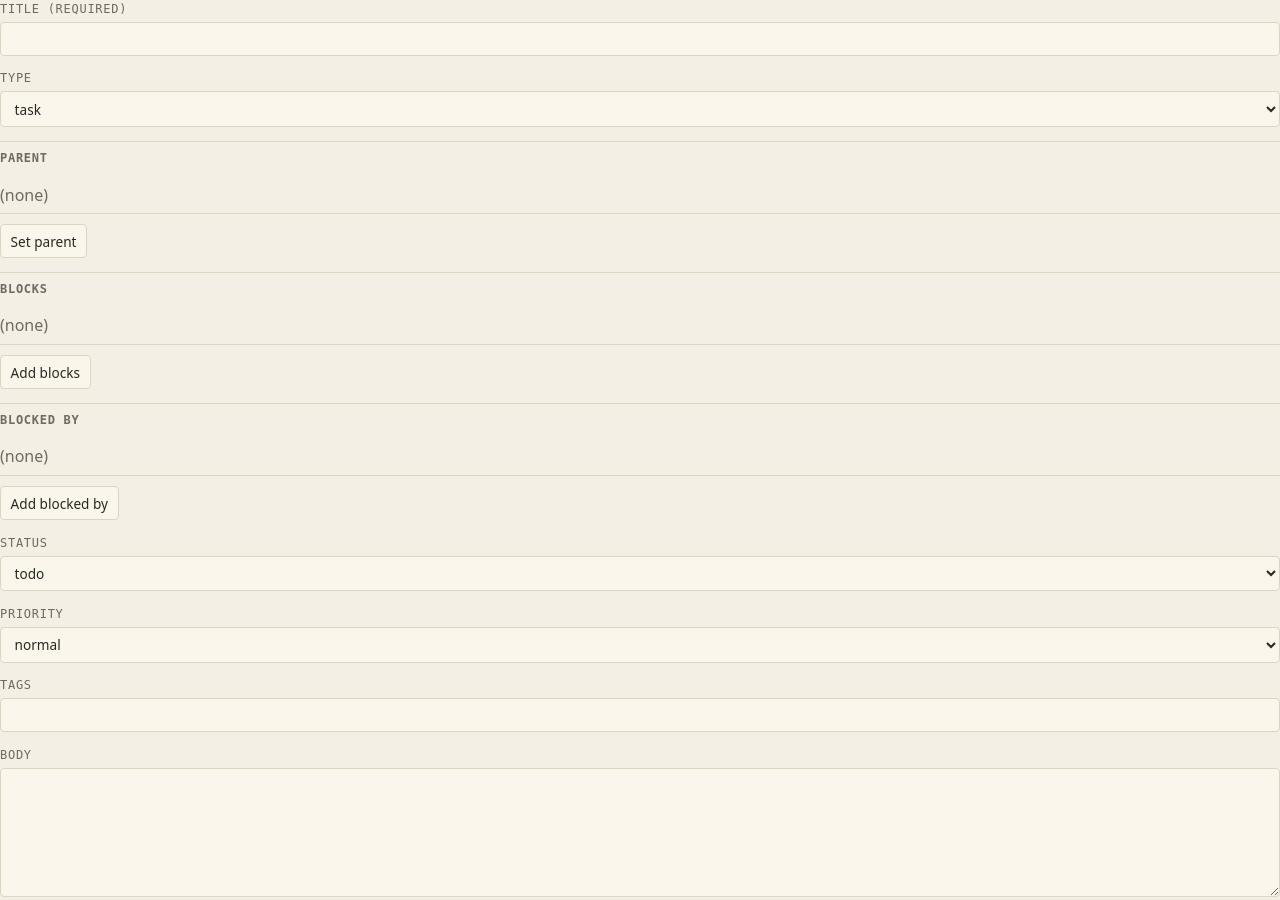
Test: CreateBeanForm › limits parent options to milestones when type is epic
This screenshot has width=1280, height=900.
Select "epic" in the dropdown labelled "Type": (640, 109) [0, 91, 1279, 127]
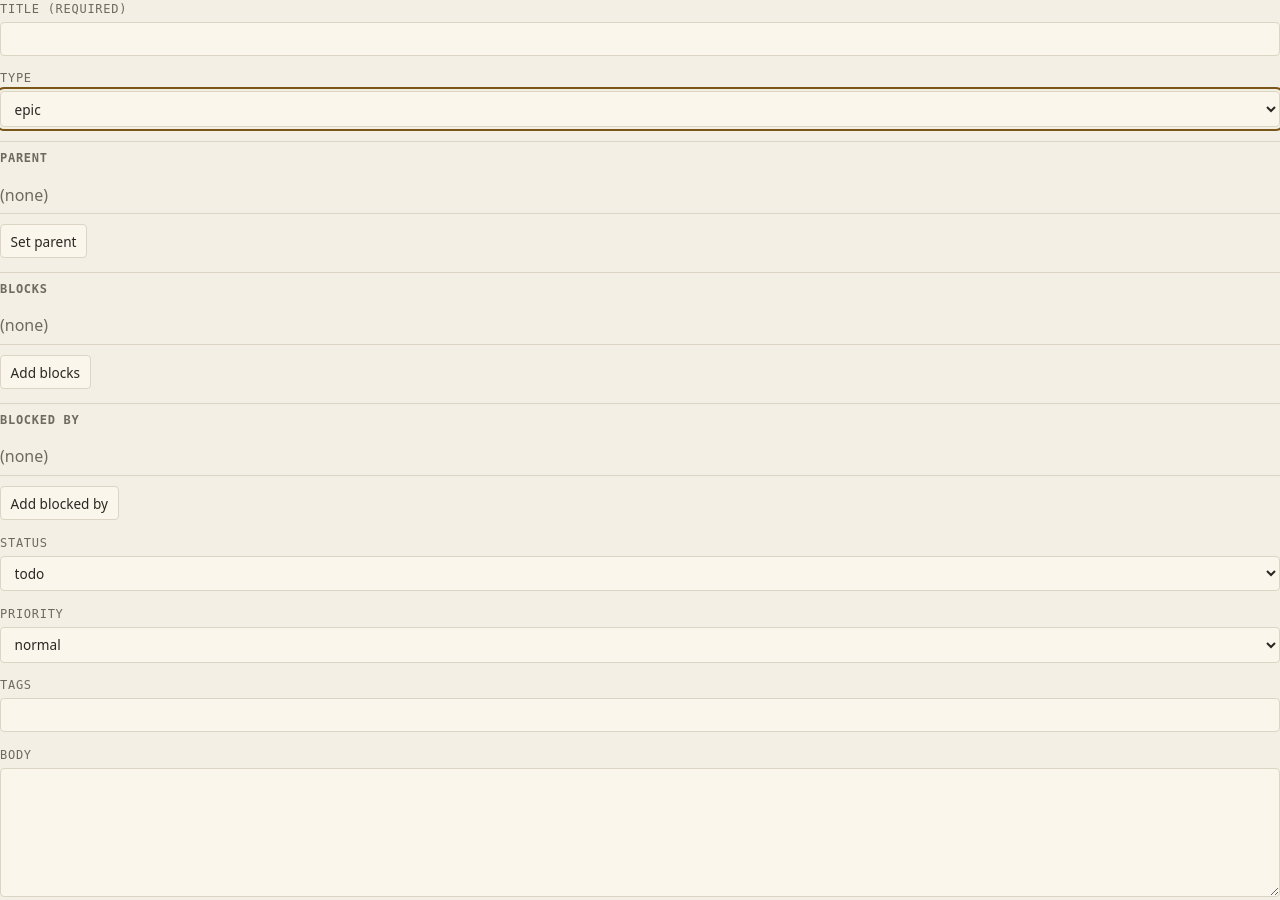
Click the button "Set parent": (44, 241) [0, 224, 87, 258]
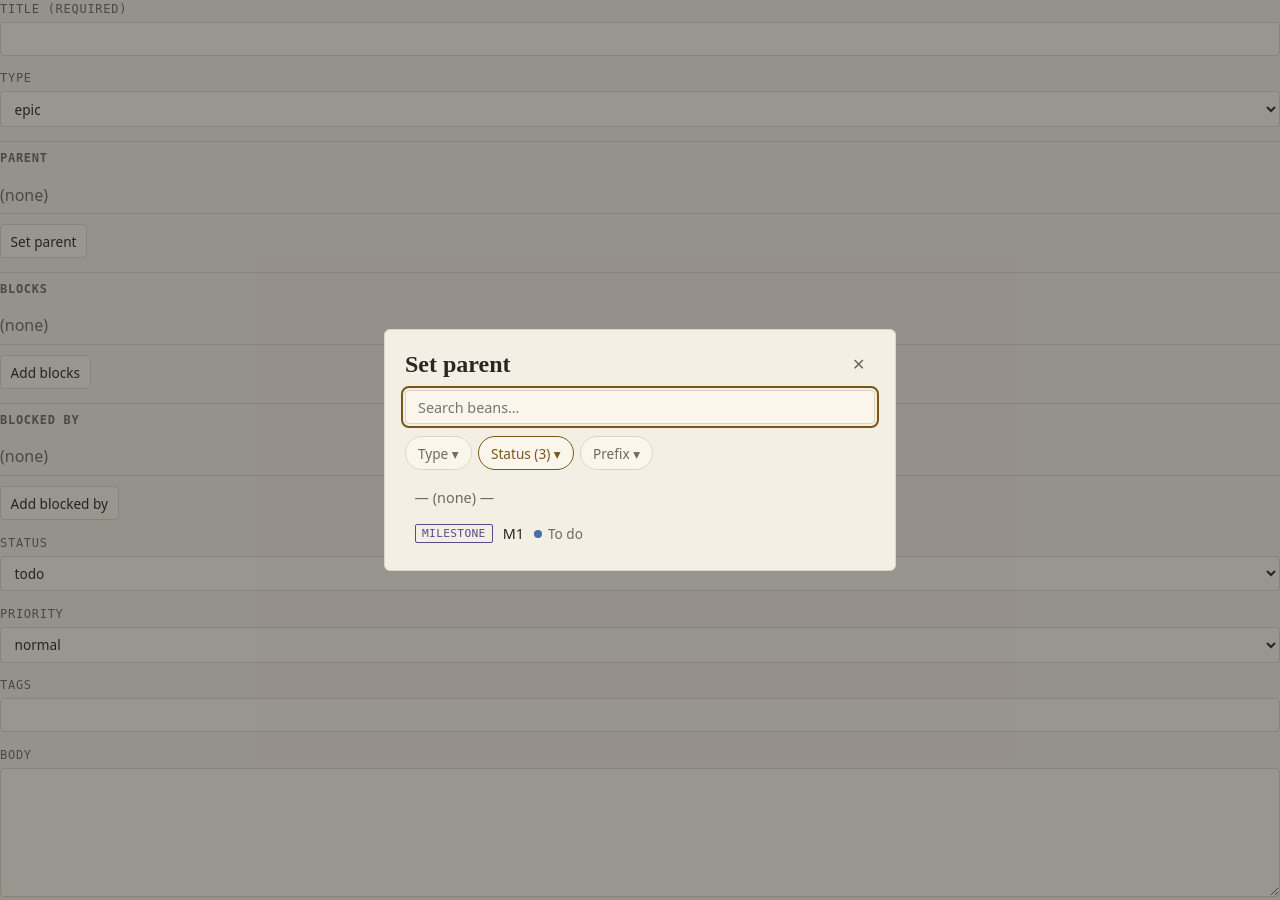
Now the text "M1" is shown, box [503, 524, 524, 544]
